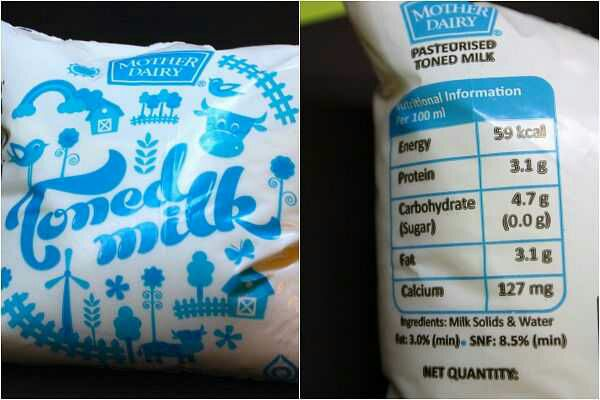Mother_Dairy: (103, 41, 212, 91), (394, 1, 514, 42)
